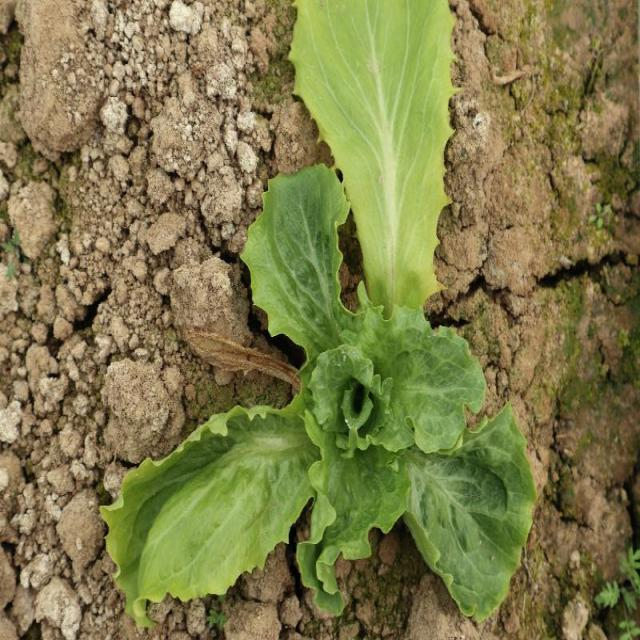crop: (97, 0, 559, 619)
